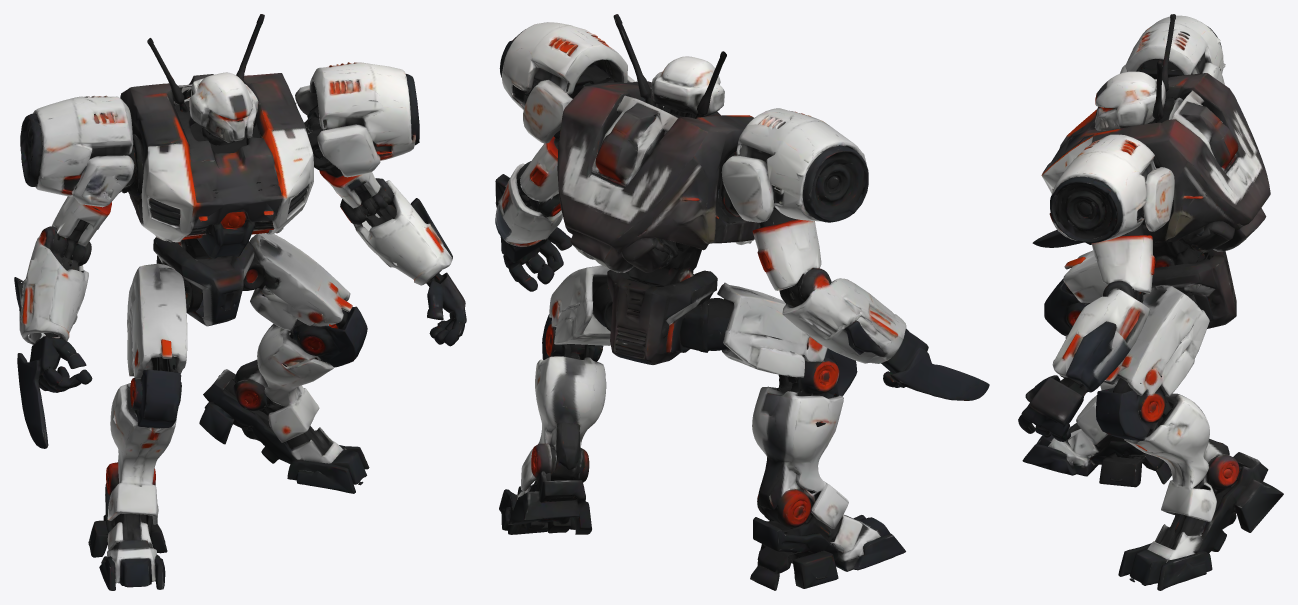
File: detail_3.glb
3 renders of one model, left to right at view 1: azimuth 30°, elevation 25°; view 2: azimuth 150°, elevation 25°; view 3: azimuth 270°, elevation 25°, orthographic. The views are drawn at different scales.
Bounding box in the file's own units: 0.9298 × 0.9984 × 0.4964.
Materials: 1 (1 with a texture image).
